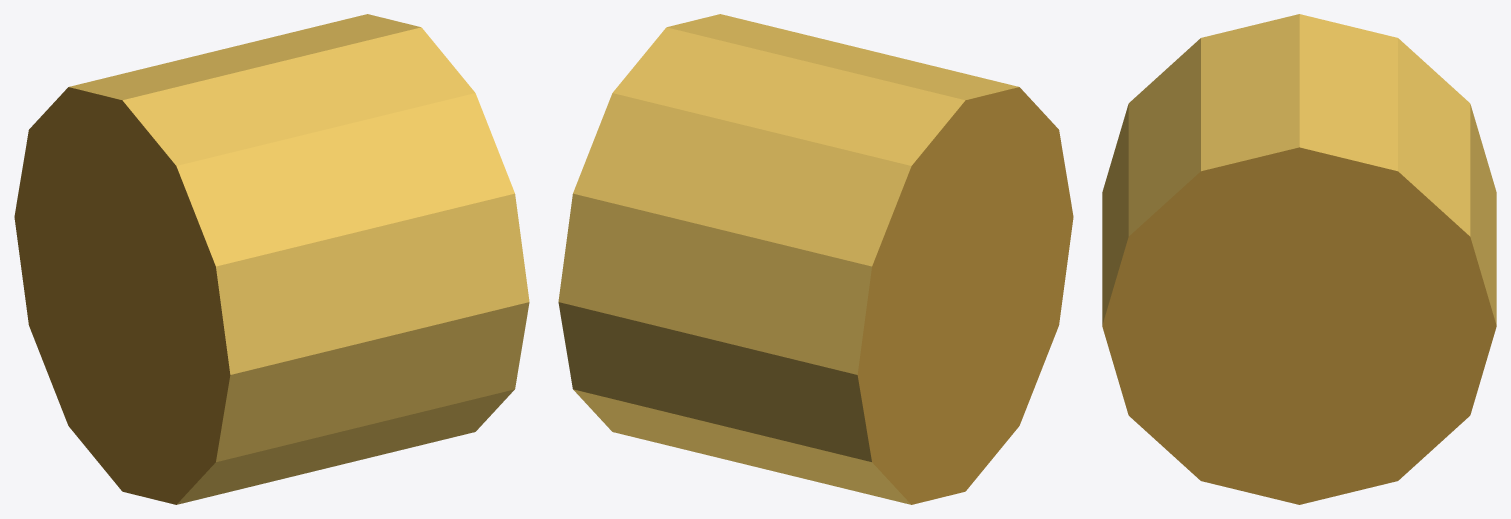
The model's file is hay_bale_round.glb.
3 renders of one model, left to right at view 1: azimuth 30°, elevation 25°; view 2: azimuth 150°, elevation 25°; view 3: azimuth 270°, elevation 25°, orthographic. The views are drawn at different scales.
Visible parts, largest first — view 1: hay_bale_round; view 2: hay_bale_round; view 3: hay_bale_round.
Boxes of the visible parts, left/top/right/bottom form: hay_bale_round: left=14, top=14, right=529, bottom=504; hay_bale_round: left=558, top=14, right=1073, bottom=504; hay_bale_round: left=1102, top=14, right=1496, bottom=504.
Bounding box in the file's own units: 1.2 × 1.5 × 1.5.
